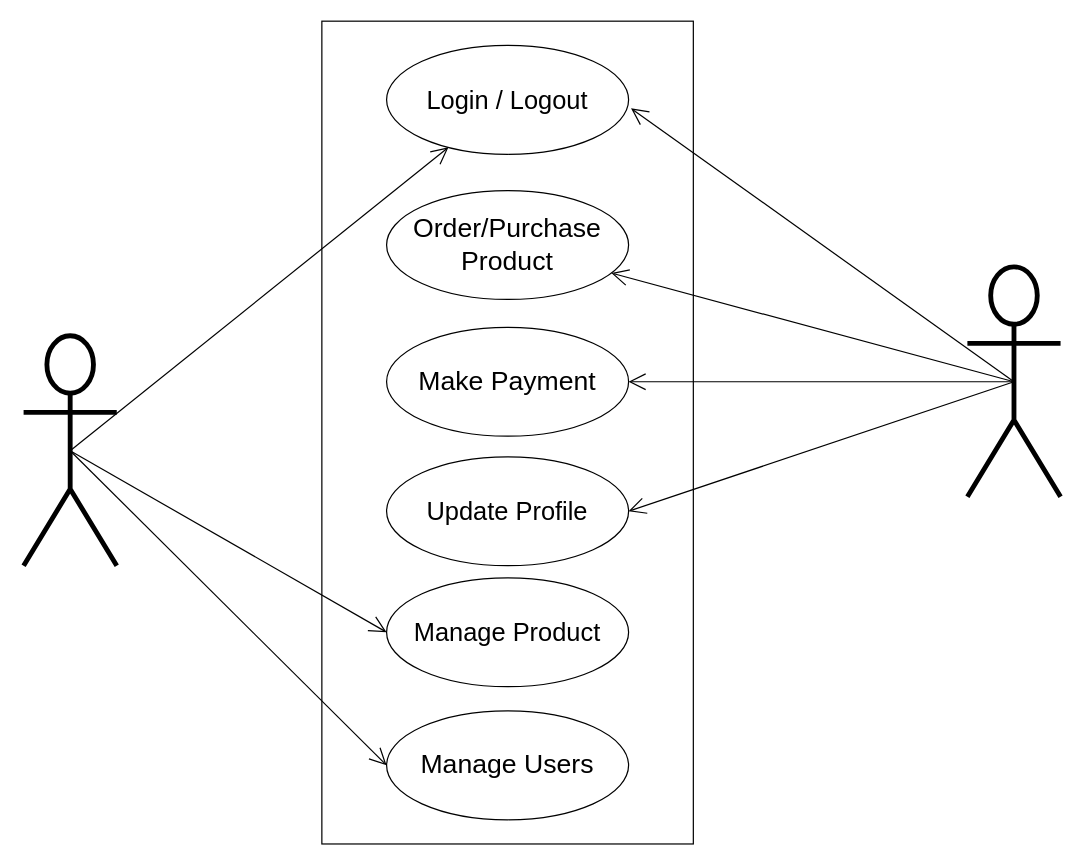
Some shapes in this 1083 by 865 pixel diagram are drawn without their labels. The centre of each missing label's shape, as x and y in pixels:
Admin: the point at 70,450
Users: the point at 1013,381
